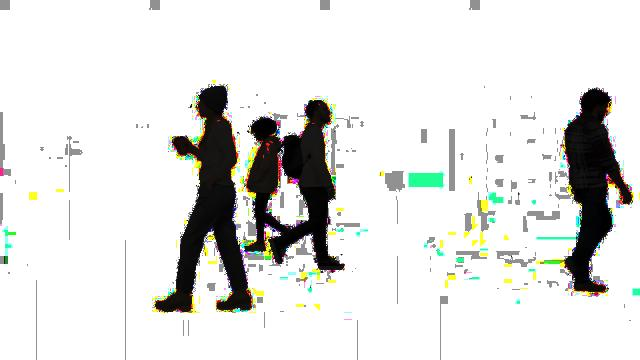berjalan: (160, 80, 264, 318), (556, 84, 632, 298), (271, 98, 351, 274), (239, 116, 297, 254)
